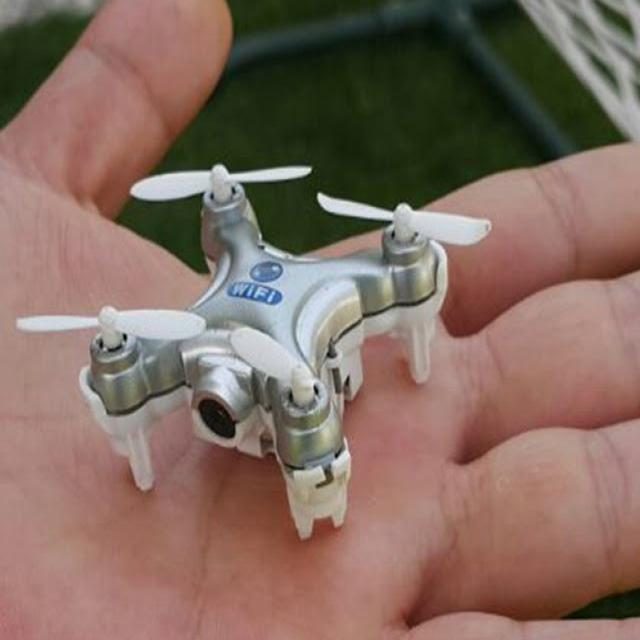drone: (5, 132, 514, 514)
